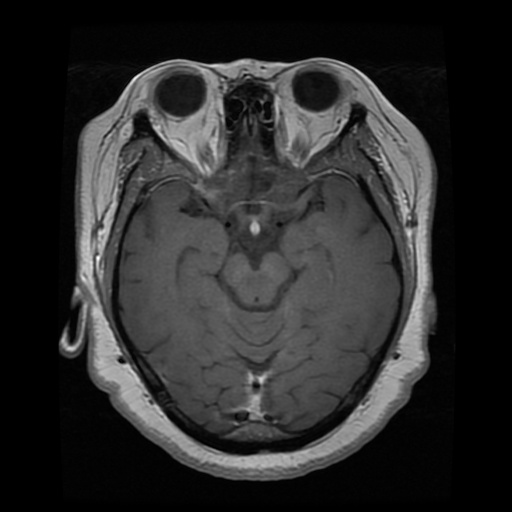pituitary: (236, 206, 275, 244)
